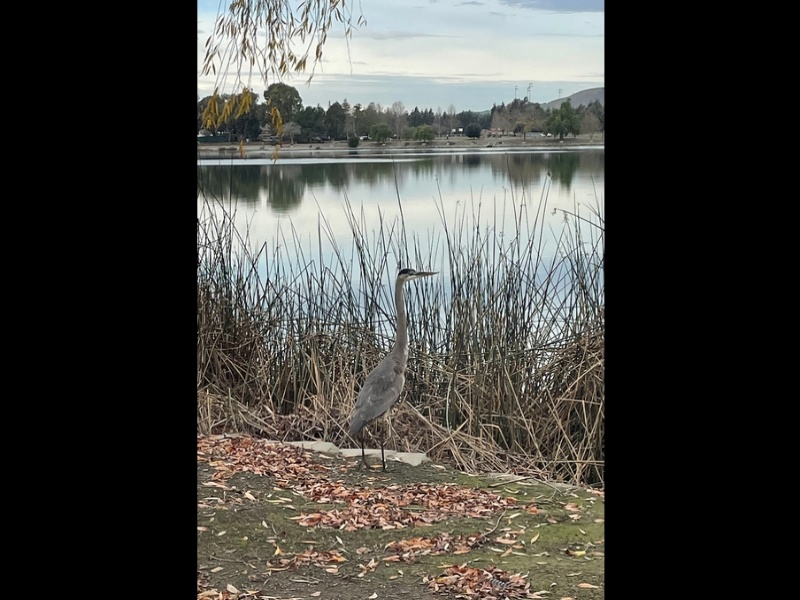heron: (348, 266, 438, 475)
